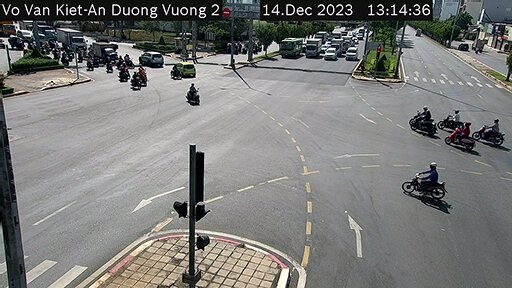car: (170, 59, 198, 80), (143, 48, 163, 66), (345, 46, 358, 66), (325, 47, 337, 62)
motorbike: (414, 158, 449, 204), (412, 102, 439, 140), (446, 123, 479, 153), (483, 117, 506, 148), (442, 107, 469, 133), (185, 83, 201, 110)
truck: (281, 36, 304, 59), (303, 38, 321, 59)
